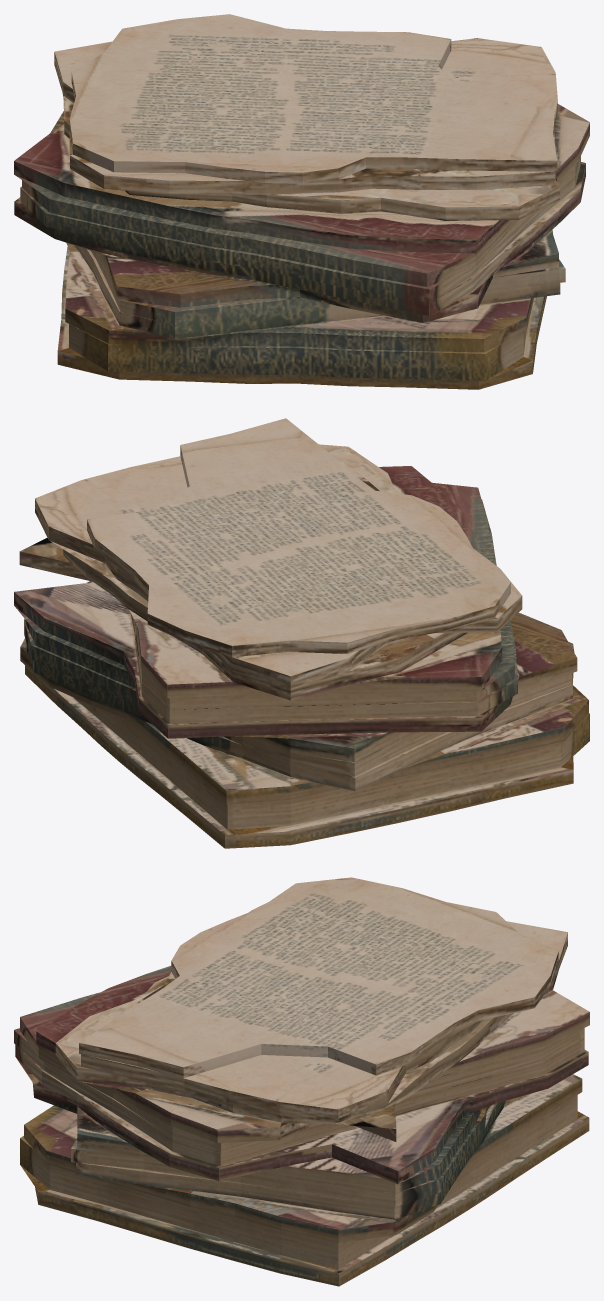
Rendered from BookStack.fbx.
3 views of the same model, one above another, from view 1: azimuth 30°, elevation 25°; view 2: azimuth 150°, elevation 25°; view 3: azimuth 270°, elevation 25° (orthographic). The views are drawn at different scales.
Parts seen in each view (by area): view 1: BookStack_Low; view 2: BookStack_Low; view 3: BookStack_Low.
Part boxes in pixels (x1,y1,x2,y2): BookStack_Low: [14, 14, 589, 389]; BookStack_Low: [14, 418, 589, 848]; BookStack_Low: [14, 877, 589, 1286].
Size of the model in its own units: 1 by 0.3456 by 0.9829.
